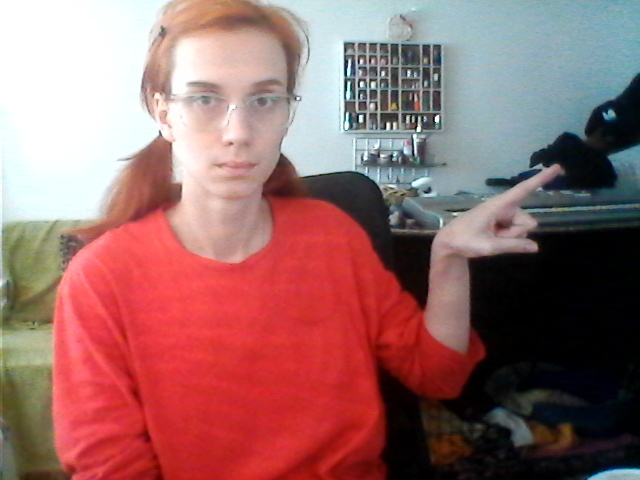on: (390, 161, 574, 401)
